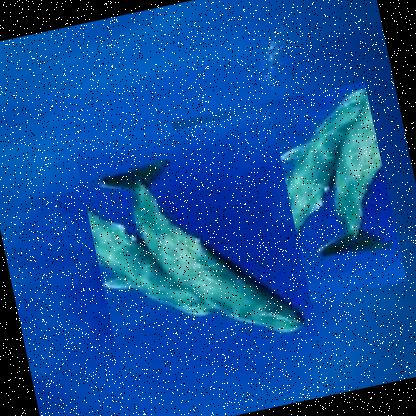sperm_whale: (74, 107, 318, 376), (172, 78, 408, 320)
